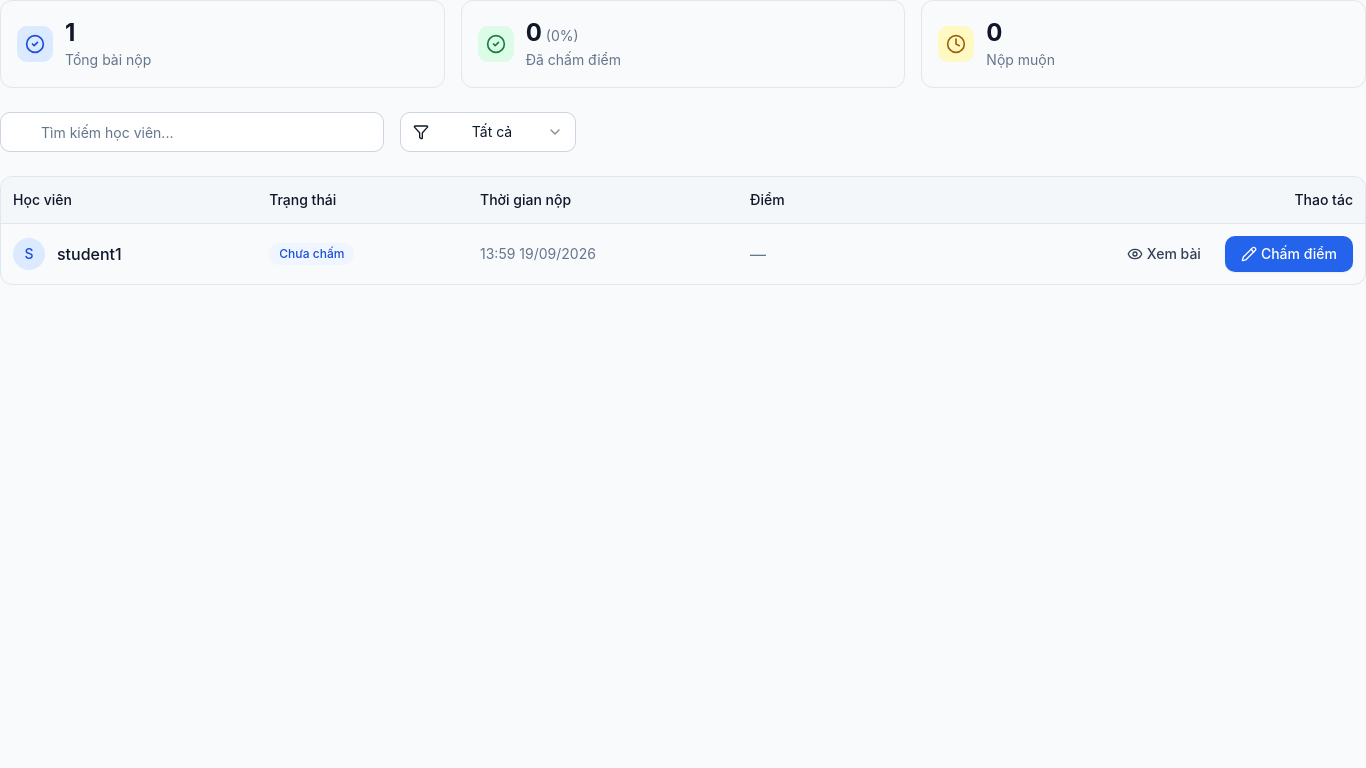
Test: SubmissionGradingPanel › điểm ngoài thang hoặc để trống: báo lỗi tại ô, không gọi API
Click the button "Chấm điểm": {"x": 1289, "y": 254} [1225,236,1353,272]
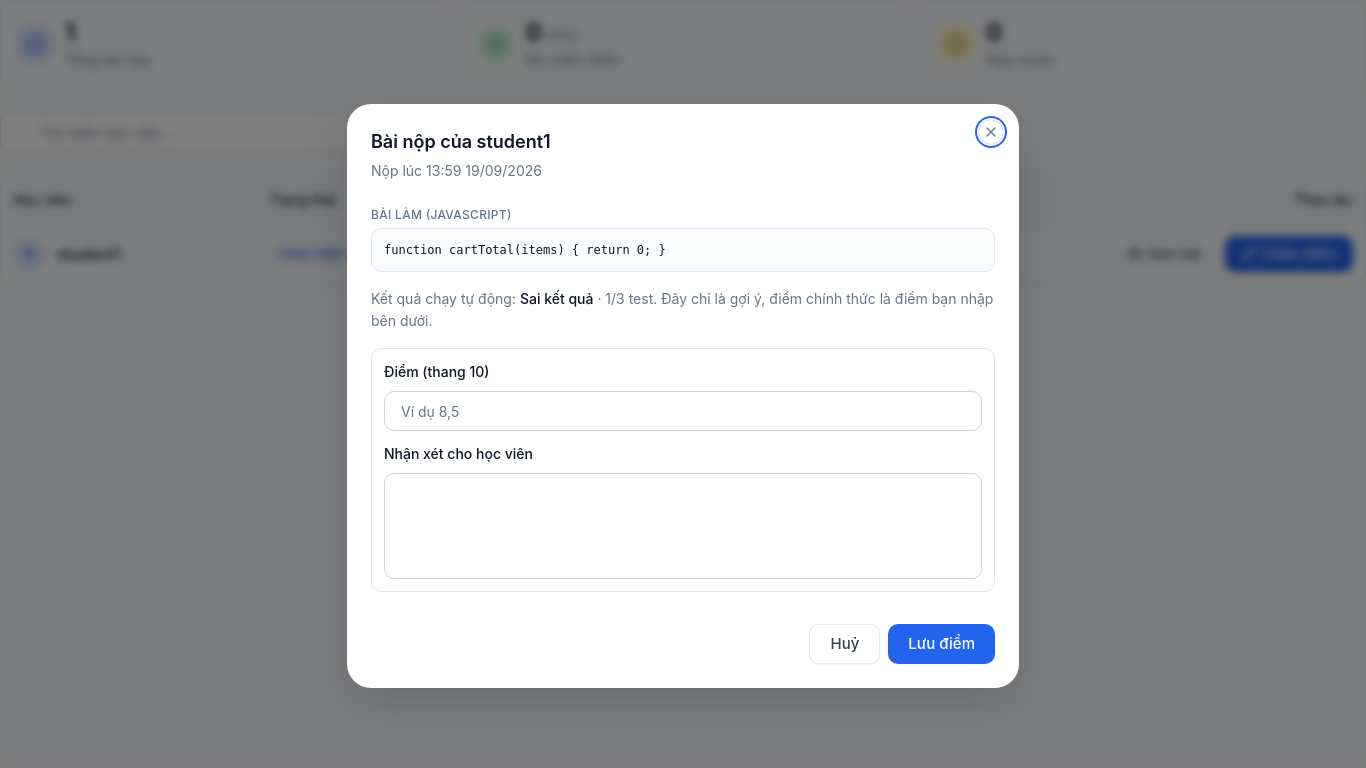
Click the button "Lưu điểm": {"x": 942, "y": 644} [888,624,995,664]
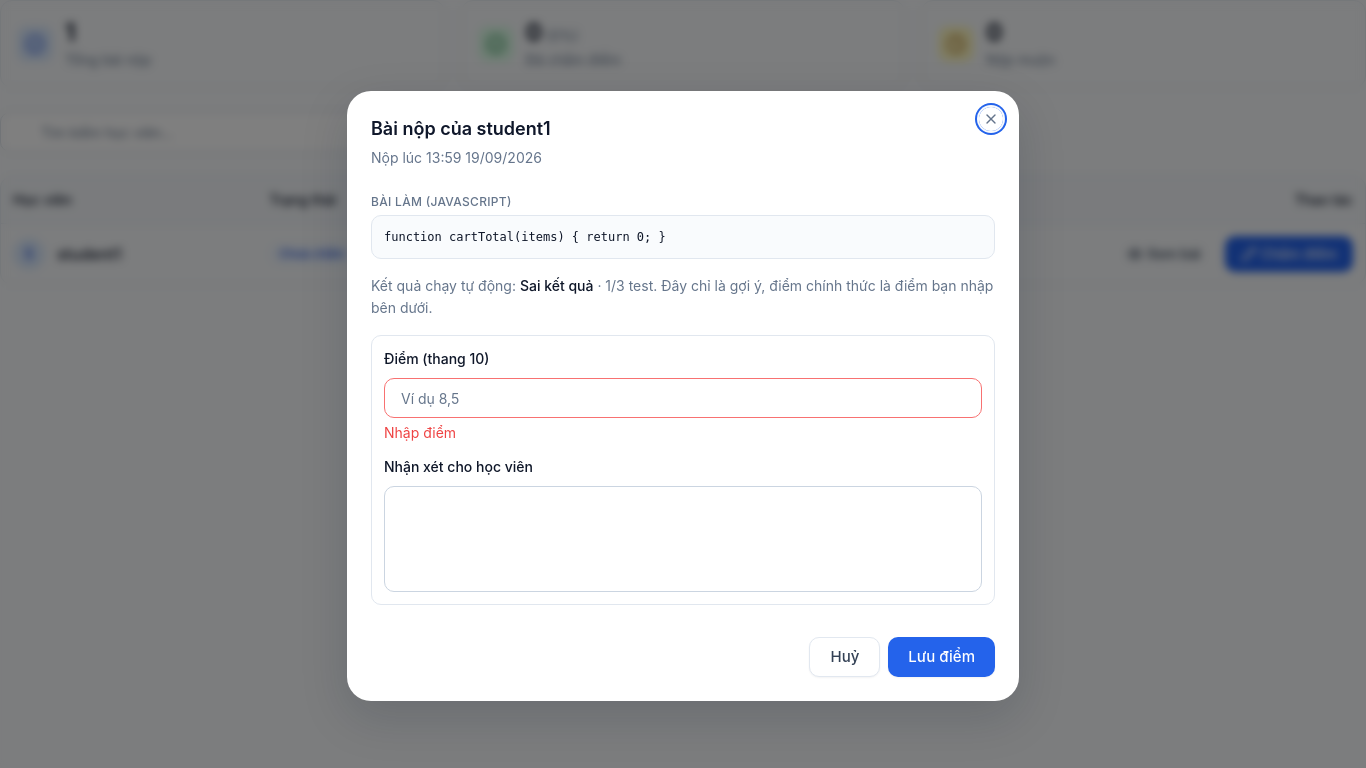
Expected: the text "Nhập điểm" is shown, [384,424,456,441]
In the field labelled "Điểm (thang 10)": {"x": 683, "y": 398} [384,378,982,418], type "11"
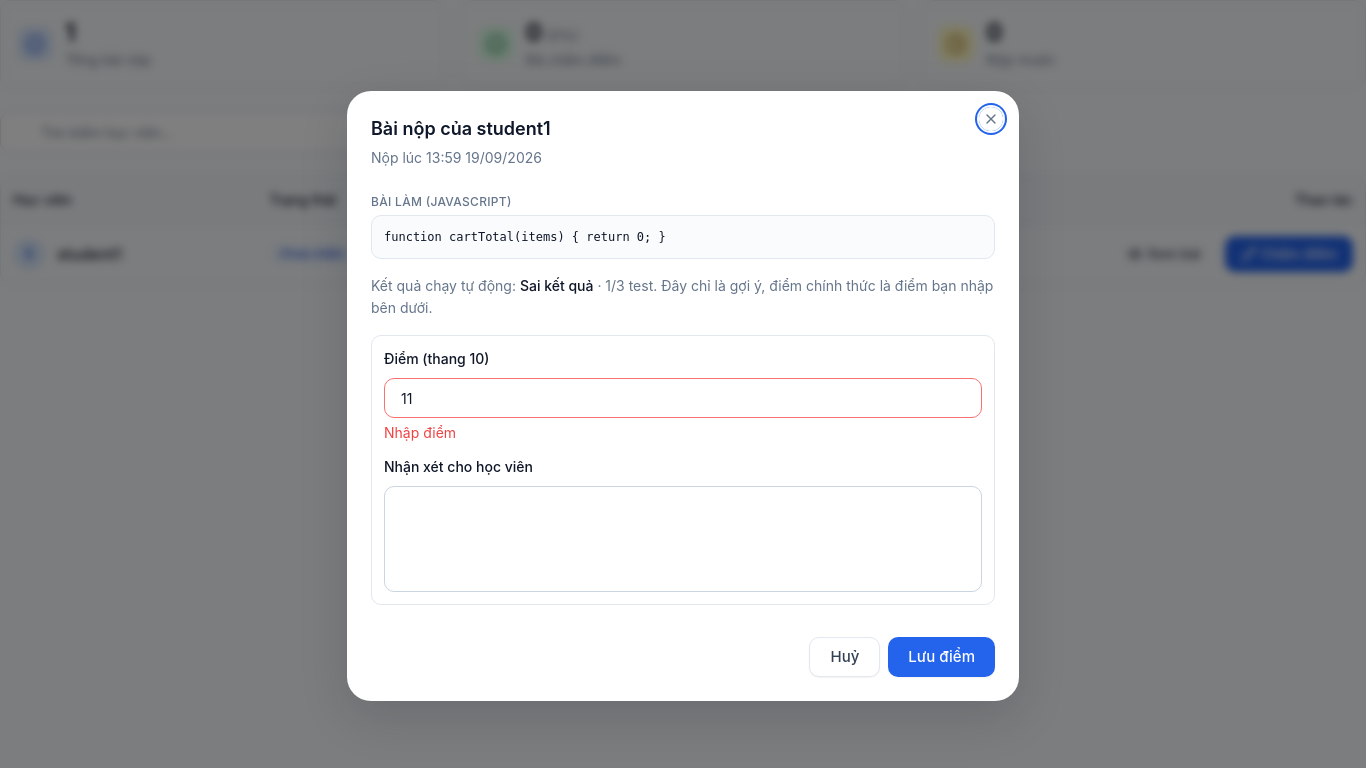
Click the button "Lưu điểm": {"x": 942, "y": 657} [888,637,995,677]
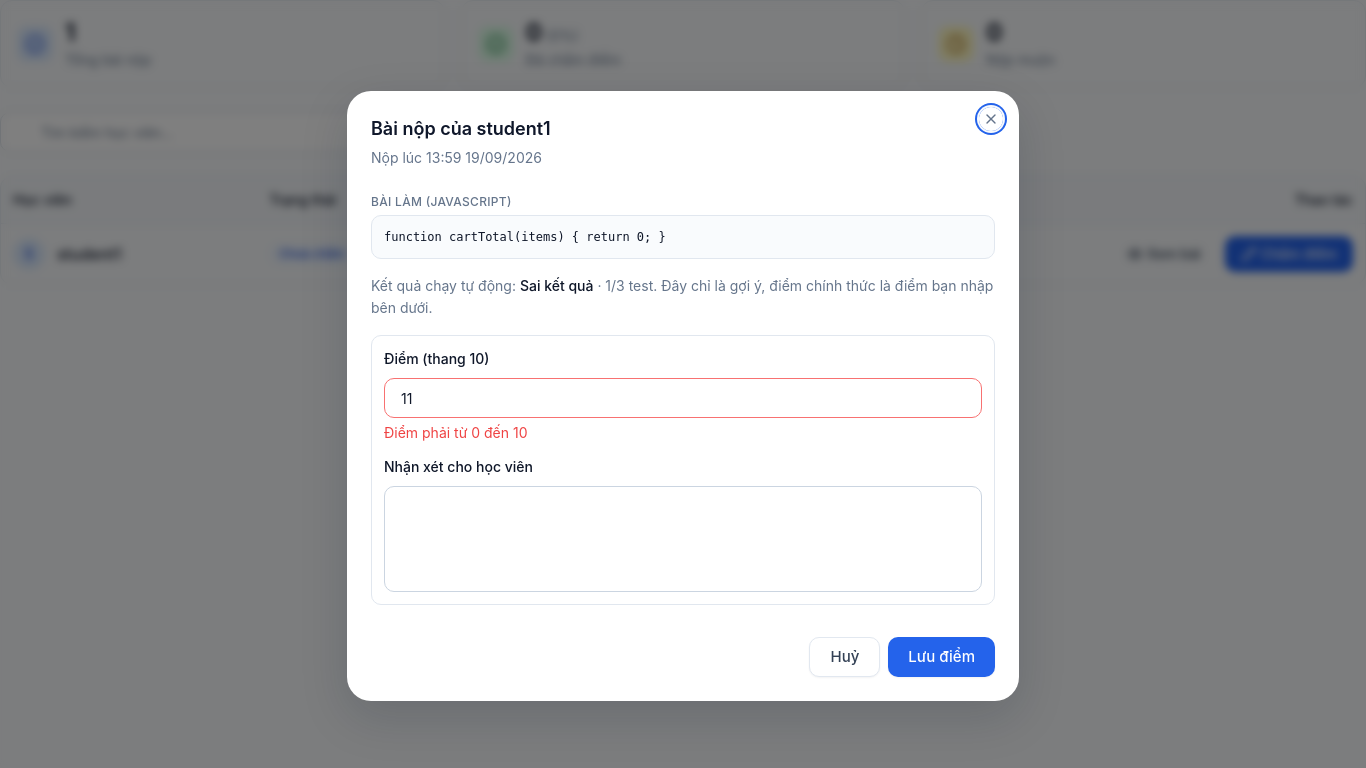
Expected: the text "Điểm phải từ 0 đến 10" is shown, [384,424,528,441]
